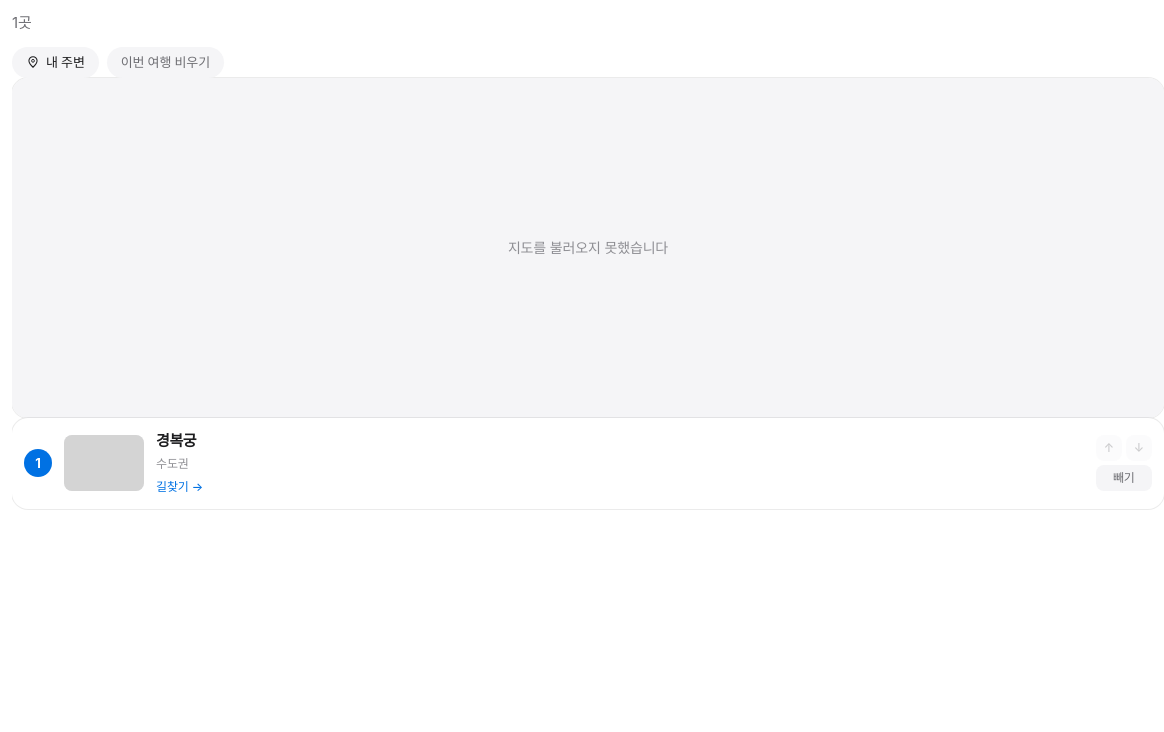
Scenario: CoursePlanner › 비우기는 한 번 더 눌러야 지워진다
The width and height of the screenshot is (1164, 732).
What coordinates should you click on to do the following:
click the button "이번 여행 비우기"
I would click on:
 (165, 62)
Its box is 107,46 -> 224,78.
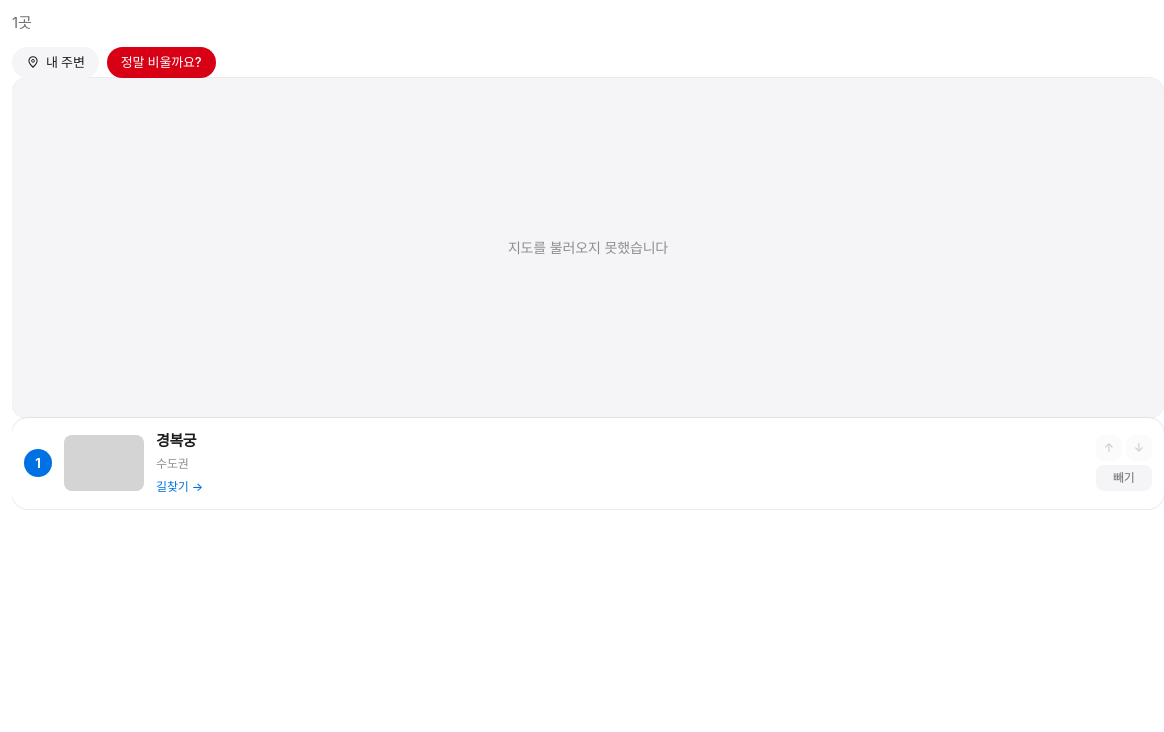
Check: the link "경복궁" is shown, box 156,431 -> 196,450
What coordinates should you click on to do the following:
click the button "정말 비울까요?"
I would click on:
 (161, 62)
Its box is 107,46 -> 216,78.
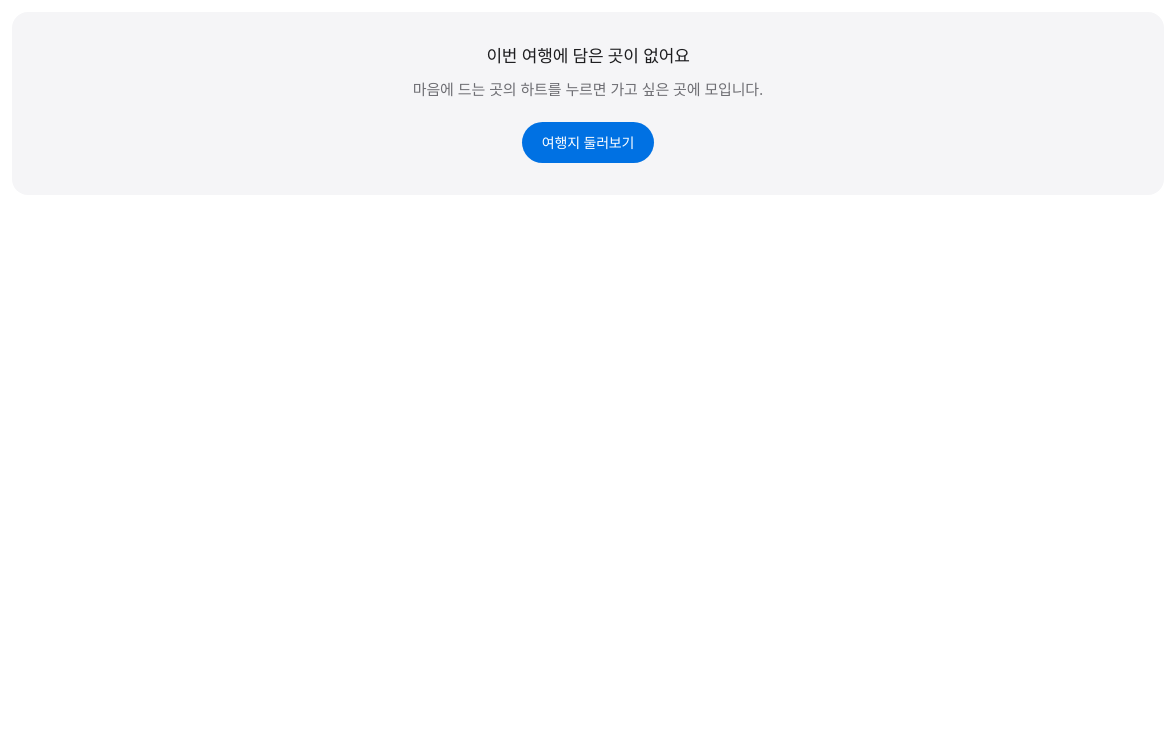
Check: the text "이번 여행에 담은 곳이 없어요" is shown, box 486,46 -> 690,66
